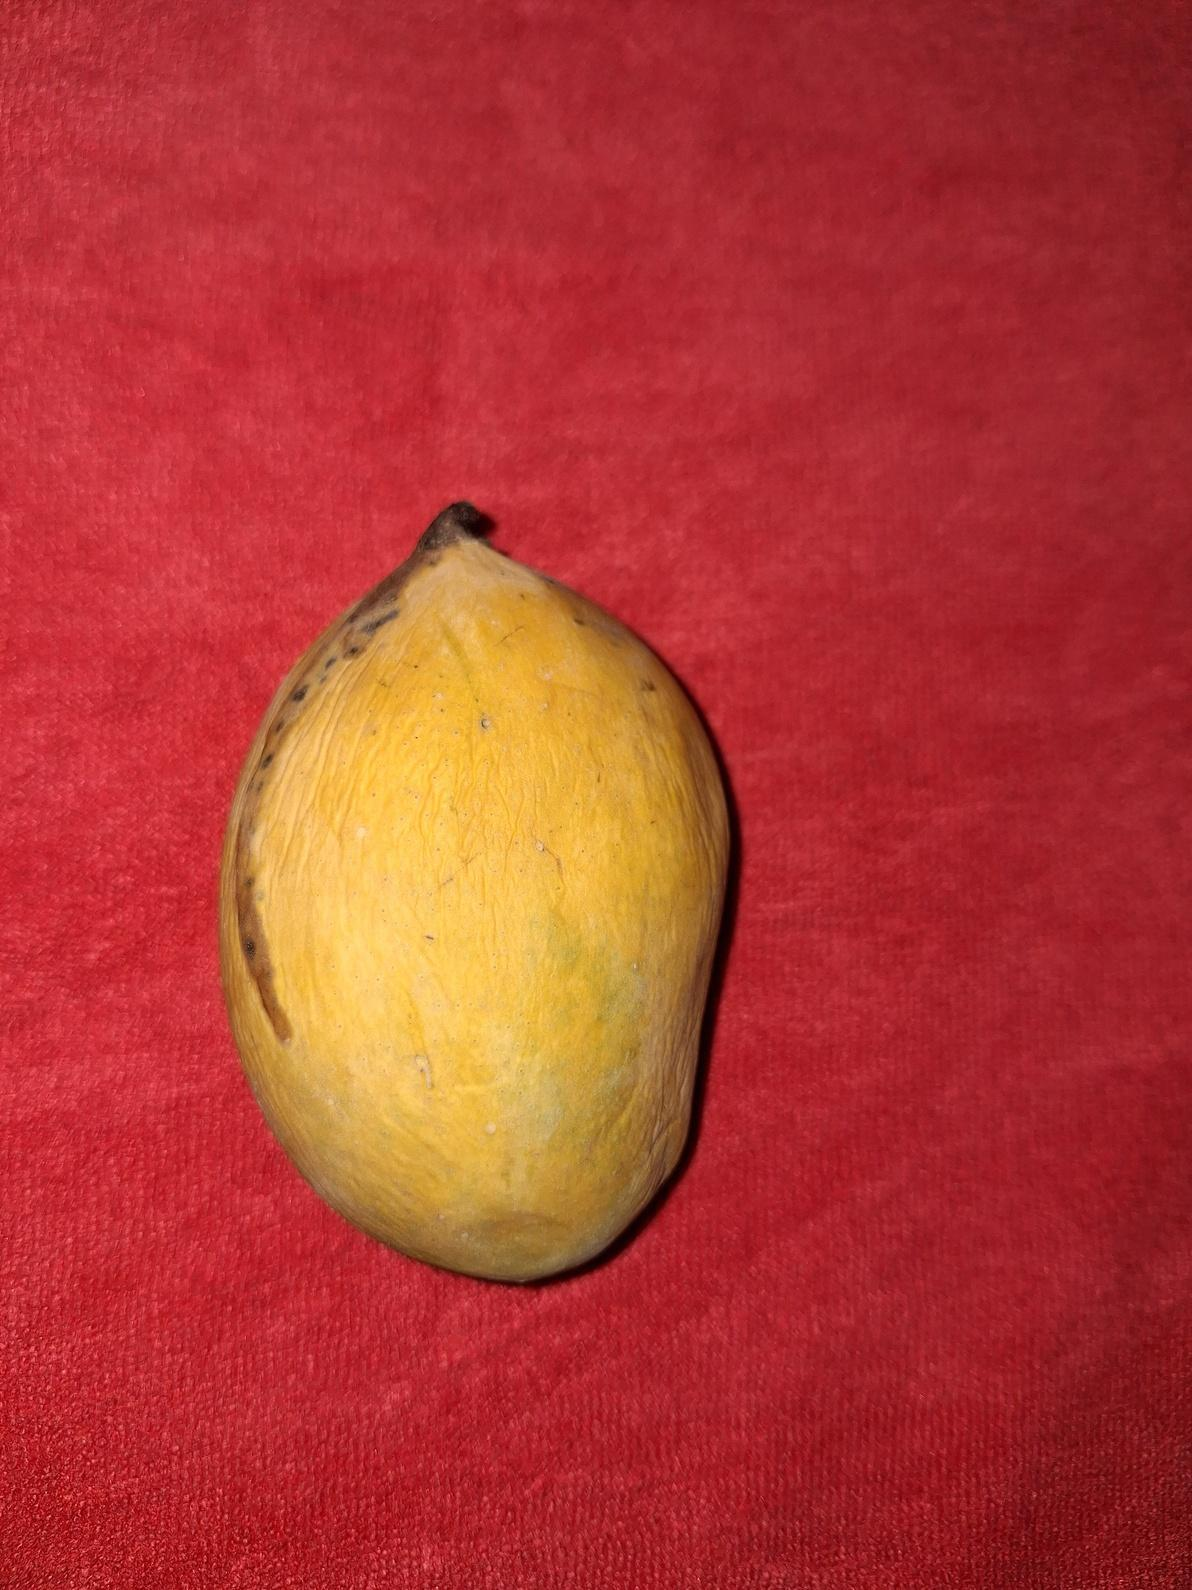mango: (215, 498, 732, 1285)
